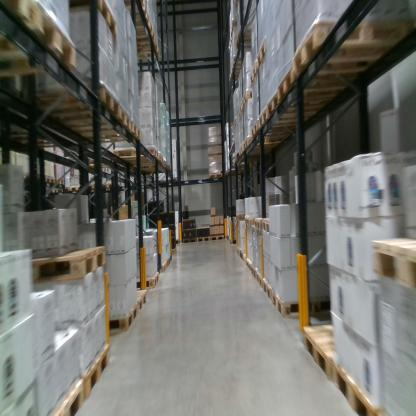pallet: (289, 21, 400, 80), (1, 2, 80, 76), (277, 64, 400, 100), (27, 246, 107, 291), (38, 85, 121, 120), (265, 86, 340, 122), (335, 358, 381, 415), (305, 318, 348, 378), (370, 236, 414, 291), (76, 341, 109, 409), (60, 108, 132, 136), (63, 119, 142, 140), (255, 110, 340, 129), (73, 2, 118, 36), (49, 378, 84, 414), (103, 305, 142, 333), (250, 120, 292, 141), (88, 155, 123, 179), (243, 134, 292, 150), (113, 148, 159, 164), (124, 2, 152, 25), (127, 22, 157, 43), (131, 38, 162, 58), (235, 29, 259, 47), (256, 38, 268, 72), (135, 273, 160, 289), (133, 152, 164, 164), (135, 290, 150, 312), (249, 59, 257, 87), (206, 168, 224, 180), (242, 93, 252, 112), (158, 261, 168, 279), (165, 176, 181, 187), (182, 236, 197, 247), (211, 233, 226, 243), (197, 235, 211, 245), (101, 184, 121, 191), (71, 184, 84, 194), (43, 176, 56, 185), (238, 143, 245, 157), (57, 177, 66, 186), (236, 106, 242, 119), (56, 187, 65, 195), (173, 237, 181, 245), (166, 254, 173, 262), (166, 256, 171, 267), (64, 188, 71, 194)
